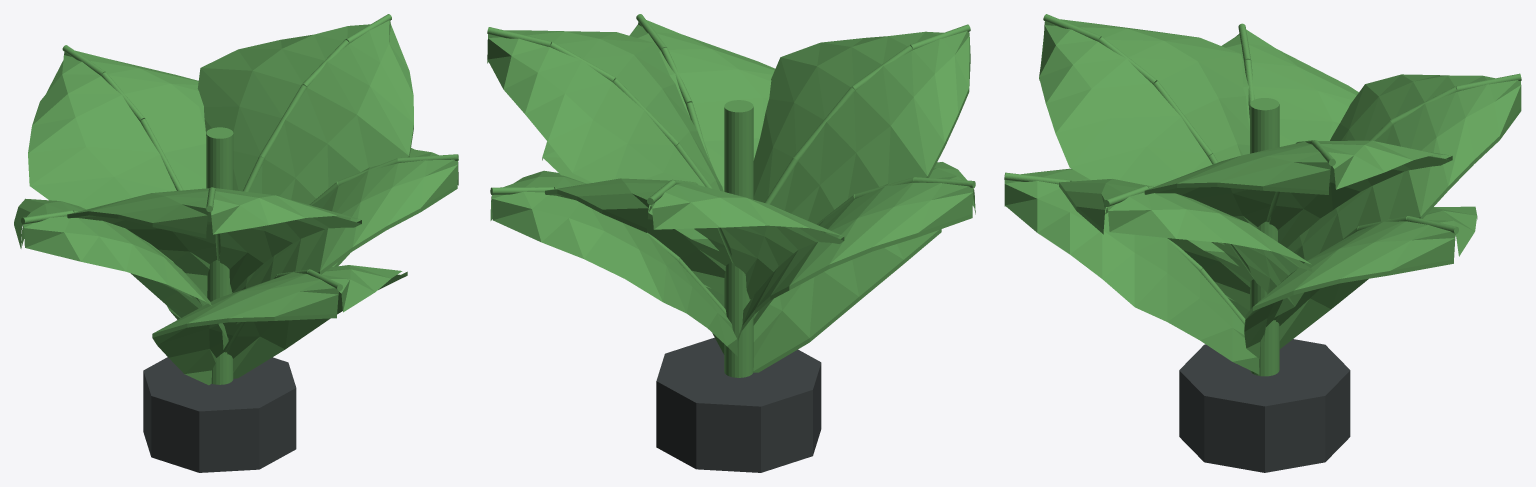
File: generation-ship-hydroponics-generation-ship-hydroponic-6468a2b6__31472.glb
3 views of the same model, side by side, from view 1: azimuth 30°, elevation 25°; view 2: azimuth 150°, elevation 25°; view 3: azimuth 270°, elevation 25° (orthographic). The views are drawn at different scales.
Parts seen in each view (by area): view 1: generation-ship-hydroponics-leafy-crop-module; view 2: generation-ship-hydroponics-leafy-crop-module; view 3: generation-ship-hydroponics-leafy-crop-module.
Boxes of the visible parts, box(x1,y1,x2,y2) form: generation-ship-hydroponics-leafy-crop-module: box(14, 14, 458, 472); generation-ship-hydroponics-leafy-crop-module: box(487, 14, 975, 472); generation-ship-hydroponics-leafy-crop-module: box(1004, 14, 1521, 472).
Size of the model in its own units: 0.4182 by 0.346 by 0.4228.
